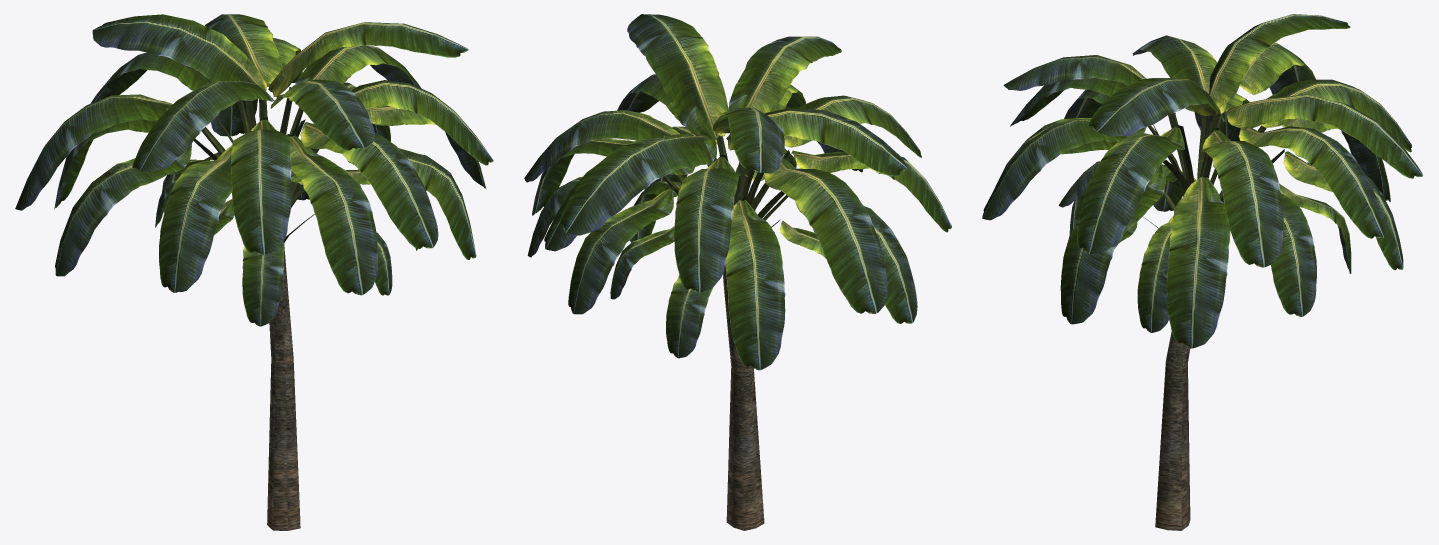
The model's file is tree_d.FBX.
3 renders of one model, left to right at view 1: azimuth 30°, elevation 25°; view 2: azimuth 150°, elevation 25°; view 3: azimuth 270°, elevation 25°, orthographic. The views are drawn at different scales.
Parts seen in each view (by area): view 1: tree_d; view 2: tree_d; view 3: tree_d.
Part boxes in pixels (x1,y1,x2,y2): tree_d: (15, 14, 493, 530); tree_d: (524, 14, 951, 530); tree_d: (982, 14, 1422, 530).
Bounding box in the file's own units: 12.07 × 13.45 × 11.21.
Materials: 1 (1 with a texture image).
